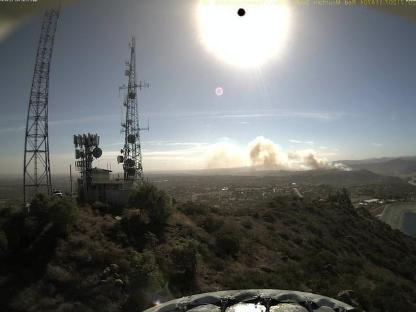smoke: (198, 133, 354, 173)
